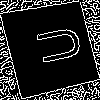U: (25, 23, 84, 69)
